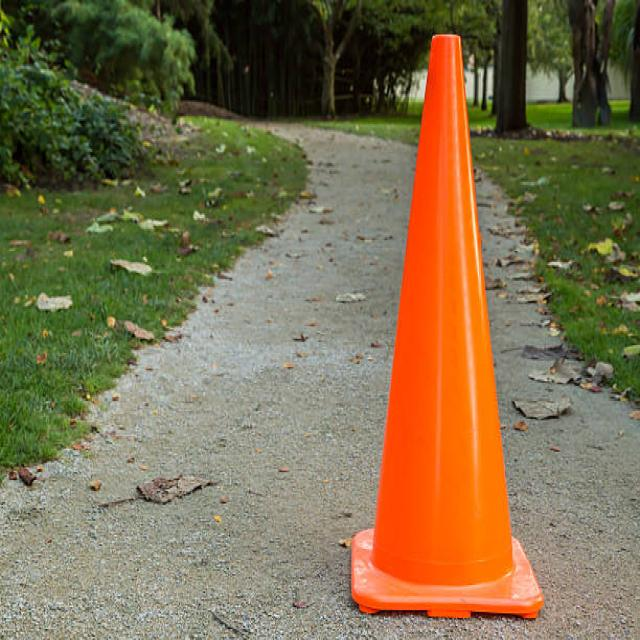Traffic Cone: (319, 10, 587, 638)
